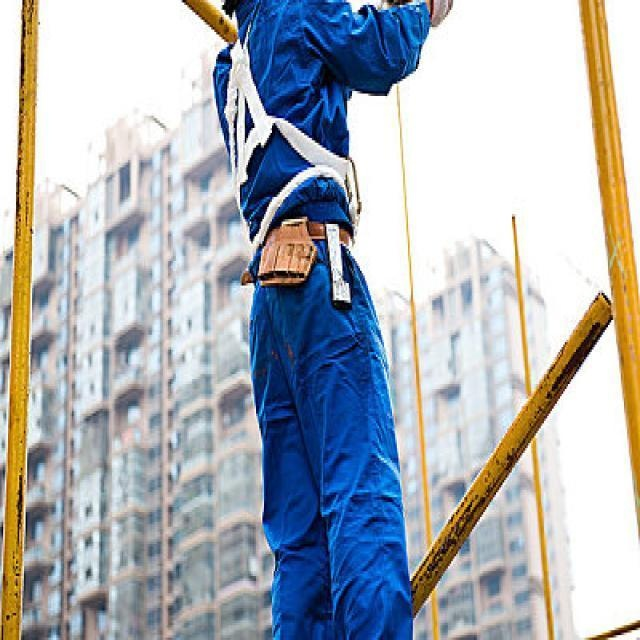Arnes_seguridad: (218, 8, 370, 274)
